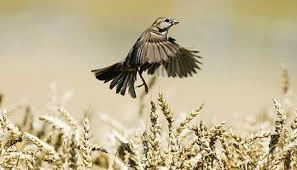hsparrow: (94, 15, 206, 100)
